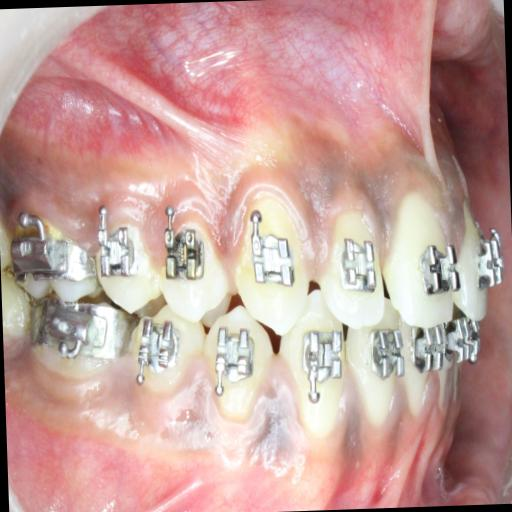correct_brace: (202, 304, 278, 422), (162, 202, 230, 328), (245, 212, 297, 295), (212, 326, 256, 402), (416, 234, 462, 298), (338, 230, 378, 299)
incorrect_brace: (320, 200, 388, 330), (163, 218, 206, 286)
